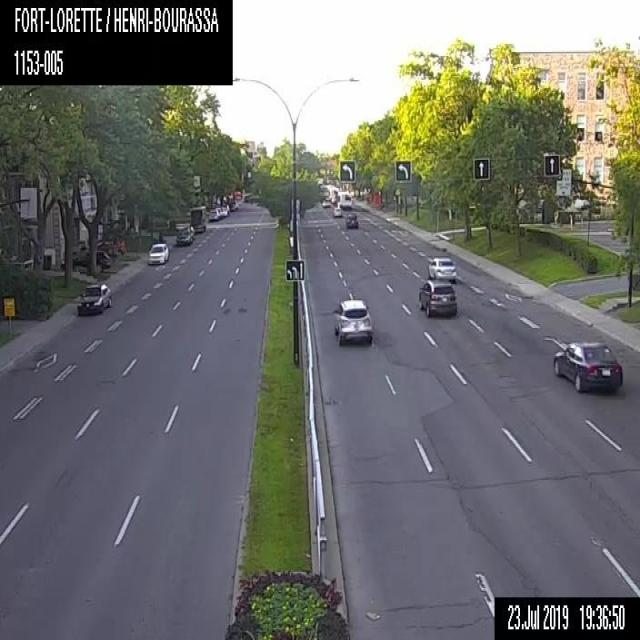bus: (336, 191, 351, 208), (324, 184, 338, 202)
vehicle: (551, 341, 623, 392), (332, 295, 372, 348), (417, 275, 455, 316), (76, 280, 112, 314), (60, 248, 109, 272), (427, 255, 458, 281), (96, 234, 125, 256), (173, 222, 194, 246), (147, 242, 168, 264), (190, 205, 205, 232), (346, 213, 358, 228), (208, 208, 218, 220), (221, 202, 229, 214), (321, 198, 330, 207), (333, 206, 341, 216), (216, 206, 222, 217), (220, 206, 226, 216)
